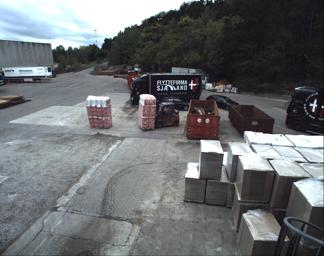rockwool_batts: (85, 93, 113, 128), (135, 93, 154, 129)
